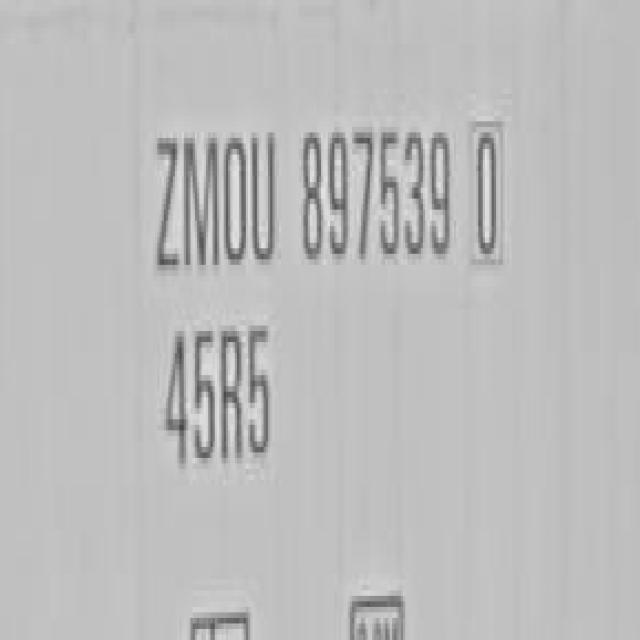dv: (466, 108, 510, 268)
owner: (149, 95, 283, 288)
serial: (299, 97, 452, 292)
size: (150, 311, 285, 484)
